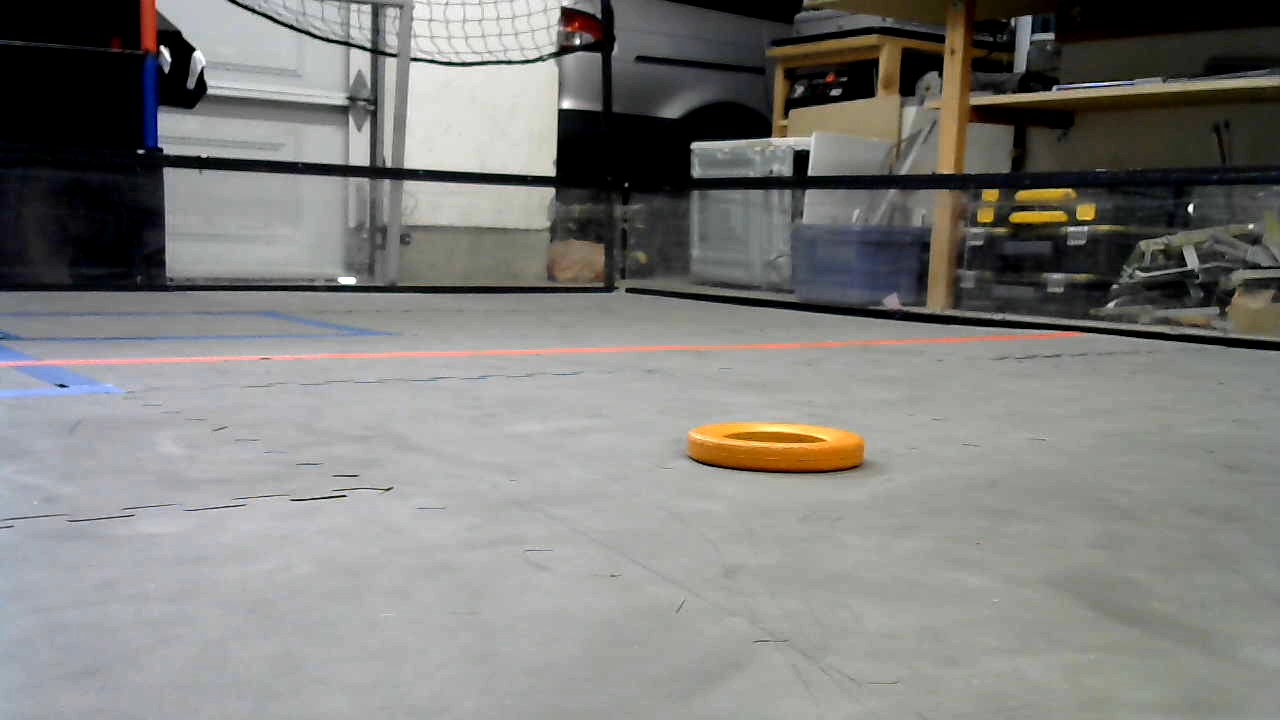OneStack: (687, 419, 864, 472)
